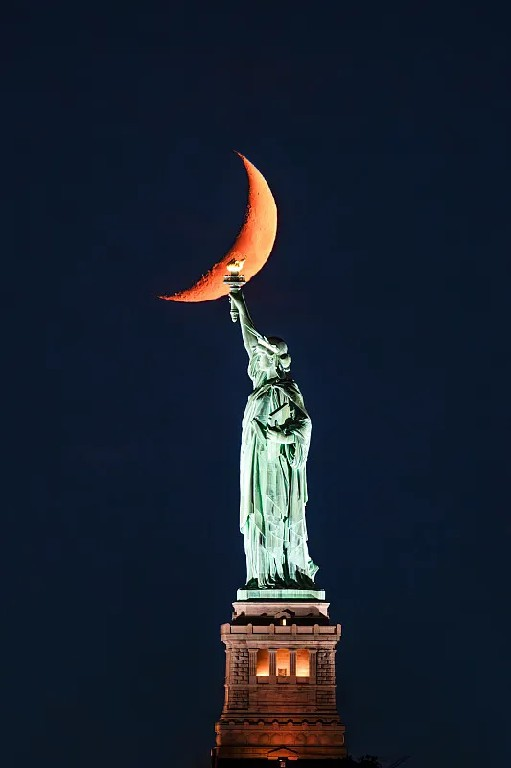SL: (208, 256, 347, 758)
